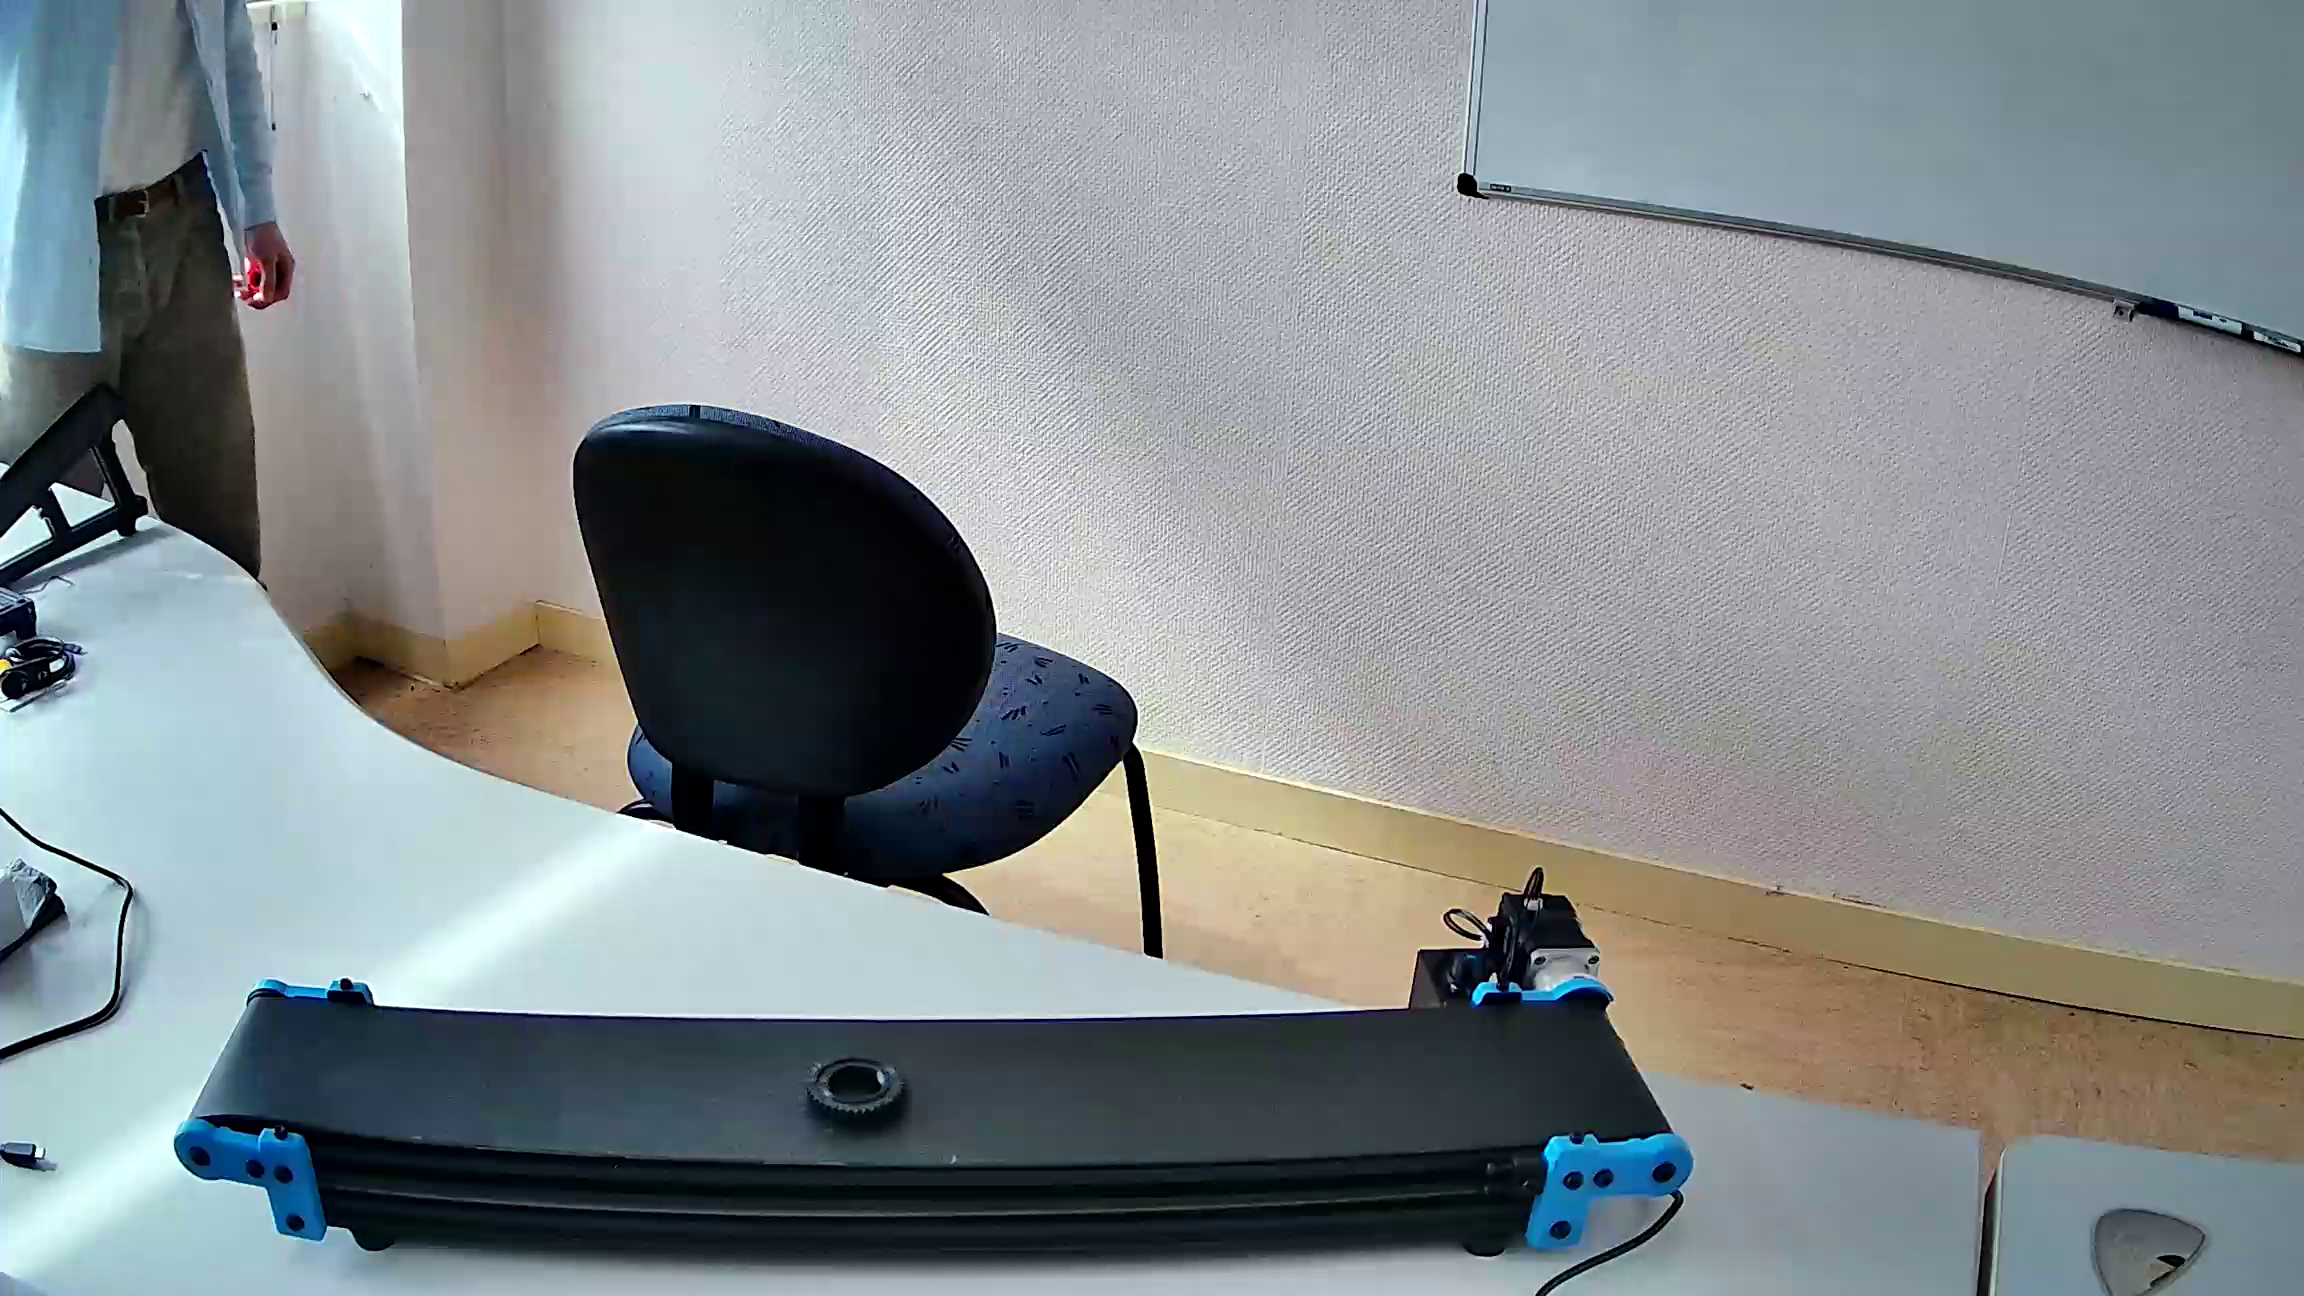good: (810, 1055, 904, 1125)
